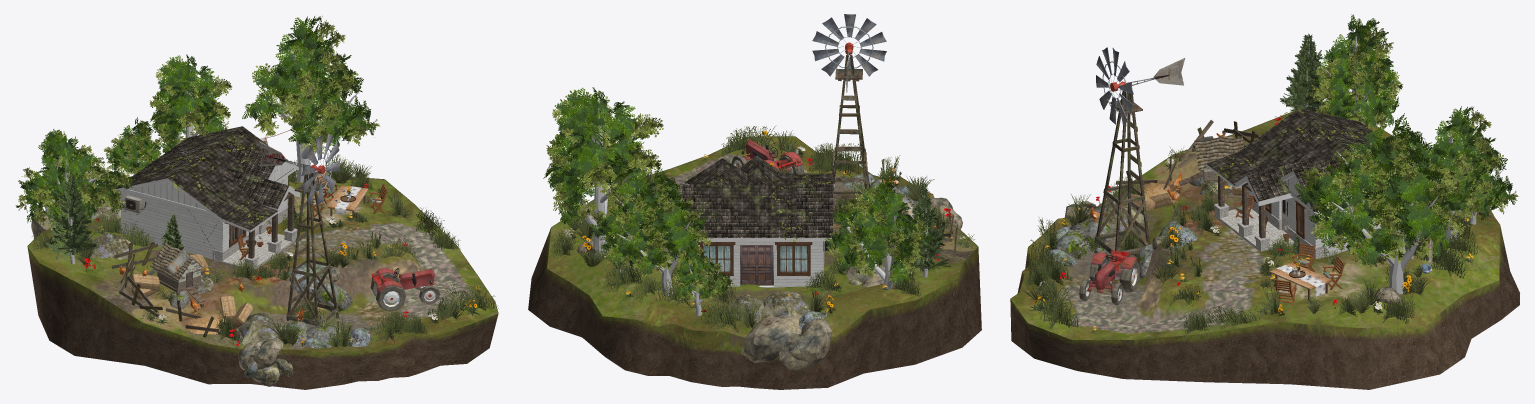
Rendered from dio.fbx.
3 renders of one model, left to right at view 1: azimuth 30°, elevation 25°; view 2: azimuth 150°, elevation 25°; view 3: azimuth 270°, elevation 25°, orthographic. The views are drawn at different scales.
Parts seen in each view (by area): view 1: geo_Ground, geo_Wallnut_trees, geo_Sideground, geo_Vegetation, geo_Roof_Top, geo_Rocks, geo_WindMill, geo_House_Walls, geo_ChickenCoop_Decoration, geo_Pine_trees, geo_Diorama, geo_House_Bricks (+7 smaller); view 2: geo_Wallnut_trees, geo_Sideground, geo_Ground, geo_Vegetation, geo_Roof_Top, geo_Rocks, geo_WindMill, geo_Pine_trees, geo_House_Walls, geo_Door2, geo_M_House_Parts, geo_Diorama (+4 smaller); view 3: geo_Ground, geo_Wallnut_trees, geo_Sideground, geo_Vegetation, geo_Roof_Top, geo_WindMill, geo_Rocks, geo_Pine_trees, geo_Diorama, geo_Outdoor_Objects, geo_ChickenCoop_Decoration, geo_House_Bricks (+5 smaller).
Boxes of the visible parts, bbox=[...] form: geo_Ground: bbox=[28, 177, 498, 352]; geo_Wallnut_trees: bbox=[15, 16, 380, 230]; geo_Sideground: bbox=[27, 177, 498, 389]; geo_Vegetation: bbox=[31, 153, 498, 347]; geo_Roof_Top: bbox=[115, 126, 293, 229]; geo_Rocks: bbox=[31, 171, 372, 386]; geo_WindMill: bbox=[259, 133, 339, 325]; geo_House_Walls: bbox=[120, 163, 293, 259]; geo_ChickenCoop_Decoration: bbox=[112, 129, 292, 337]; geo_Pine_trees: bbox=[46, 174, 297, 264]; geo_Diorama: bbox=[370, 268, 440, 311]; geo_House_Bricks: bbox=[214, 209, 296, 271]; geo_Wallnut_trees: bbox=[543, 87, 932, 316]; geo_Sideground: bbox=[528, 136, 981, 389]; geo_Ground: bbox=[547, 136, 977, 337]; geo_Vegetation: bbox=[549, 125, 975, 332]; geo_Roof_Top: bbox=[682, 155, 835, 238]; geo_Rocks: bbox=[577, 173, 962, 371]; geo_WindMill: bbox=[812, 14, 886, 208]; geo_Pine_trees: bbox=[644, 185, 950, 277]; geo_House_Walls: bbox=[686, 183, 824, 287]; geo_Door2: bbox=[740, 245, 773, 285]; geo_M_House_Parts: bbox=[698, 242, 812, 275]; geo_Diorama: bbox=[731, 140, 804, 173]; geo_Ground: bbox=[1011, 112, 1500, 340]; geo_Wallnut_trees: bbox=[1294, 14, 1518, 294]; geo_Sideground: bbox=[1010, 111, 1519, 389]; geo_Vegetation: bbox=[1018, 116, 1491, 343]; geo_Roof_Top: bbox=[1207, 108, 1407, 215]; geo_WindMill: bbox=[1095, 47, 1185, 254]; geo_Rocks: bbox=[1046, 170, 1489, 304]; geo_Pine_trees: bbox=[1280, 33, 1424, 258]; geo_Diorama: bbox=[1079, 250, 1139, 305]; geo_Outdoor_Objects: bbox=[1233, 195, 1344, 305]; geo_ChickenCoop_Decoration: bbox=[1116, 120, 1459, 273]; geo_House_Bricks: bbox=[1214, 201, 1324, 259].
Size of the model in its own units: 2022 by 1102 by 2127.
